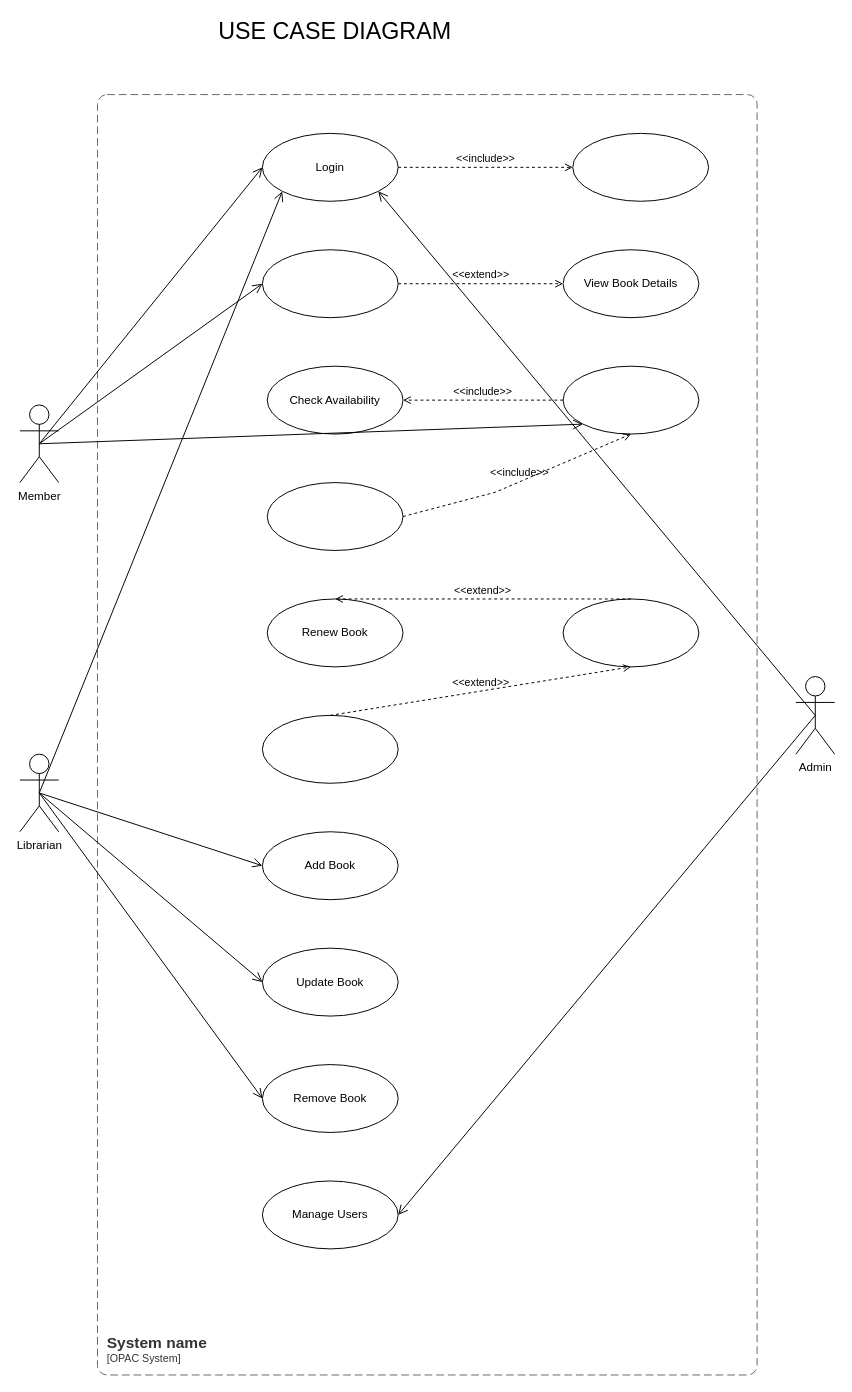
The diagram is 852 pixels wide and 1392 high, and some of its shapes have lost their labels. The centre of each missing label's shape, as x and y in pixels:
Authorize Creds: (640,166)
Late Fee: (630,632)
Payment Gateway: (329,748)
Reserve Book: (630,399)
Search Book: (329,283)
select Date: (334,516)
